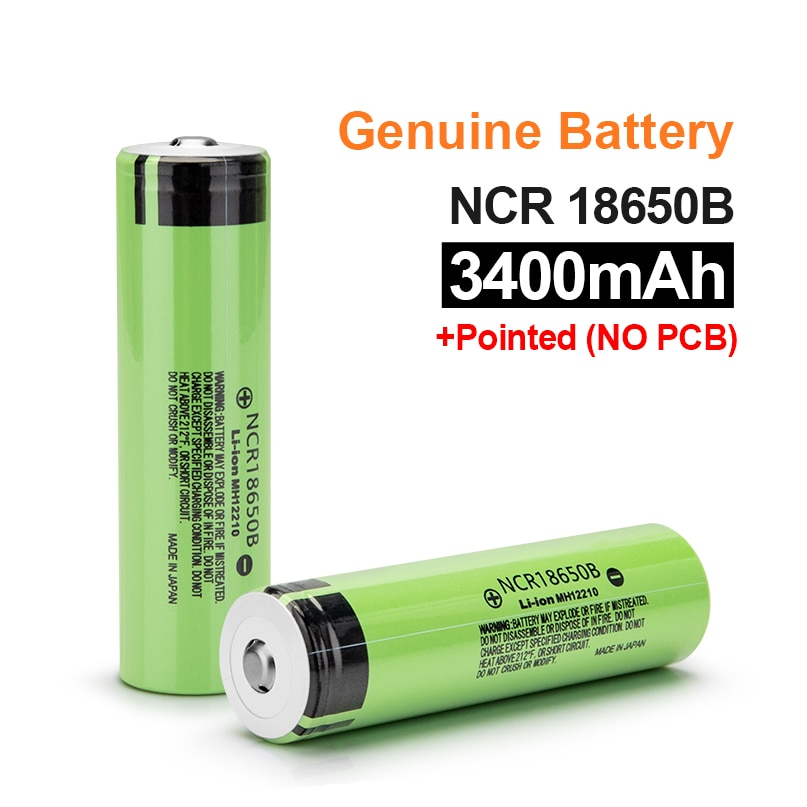Battery: (217, 521, 714, 748), (112, 133, 275, 697)
